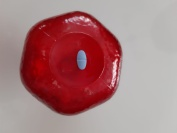Majezik: (76, 48, 88, 70)
